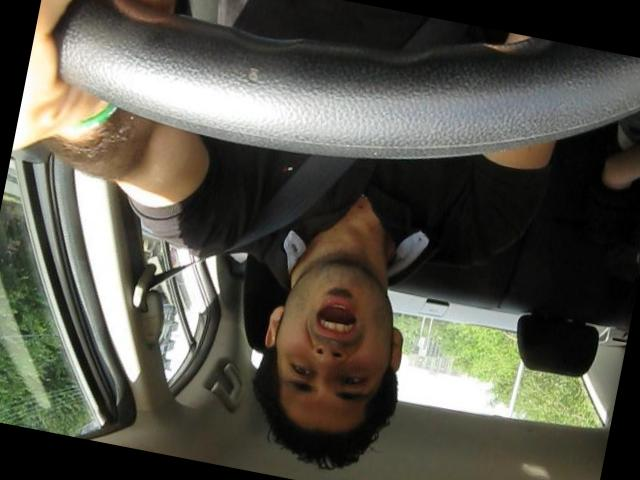eye_open: (332, 368, 370, 393), (284, 360, 319, 382)
face: (262, 250, 404, 432)
mouth_open: (308, 291, 367, 344)
